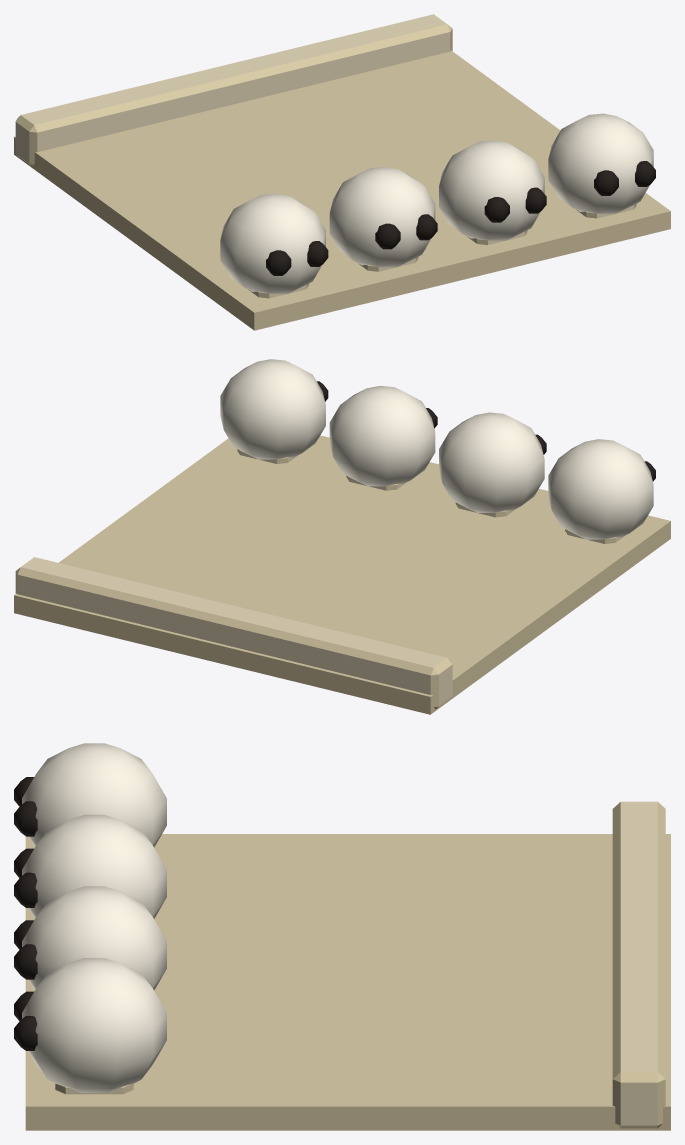
File: block_bone_cap_wall.glb
3 renders of one model, top to bottom at view 1: azimuth 30°, elevation 25°; view 2: azimuth 150°, elevation 25°; view 3: azimuth 270°, elevation 25°, orthographic. The views are drawn at different scales.
Visible parts, largest first — view 1: BoneCapWall; view 2: BoneCapWall; view 3: BoneCapWall.
Part boxes in pixels (x1=…): BoneCapWall: x1=14, y1=14, x2=670, y2=330; BoneCapWall: x1=14, y1=359, x2=670, y2=714; BoneCapWall: x1=14, y1=743, x2=670, y2=1130.
Size of the model in its own units: 1.24 by 0.2858 by 1.24.
